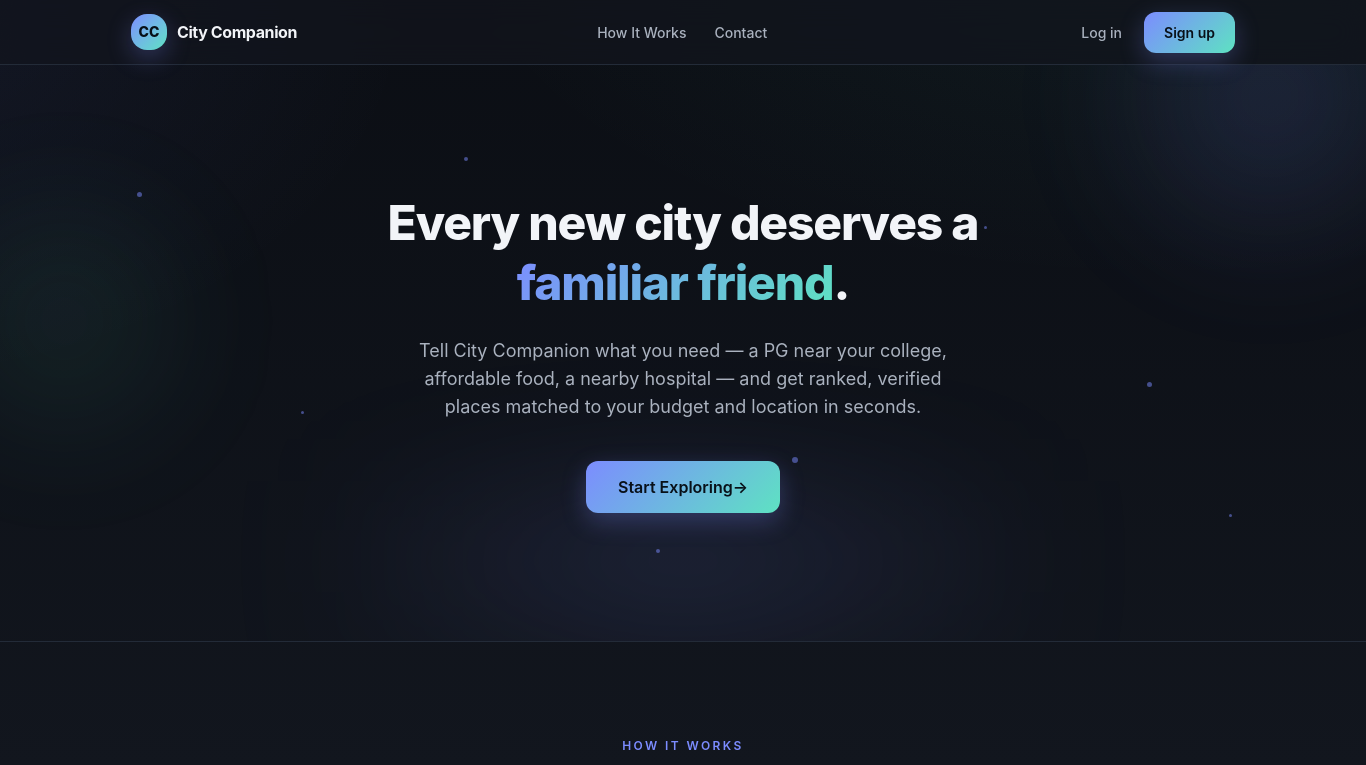
Phase 6B — navigation › routes Start Exploring through the auth guard to /login for guests
expect the heading "Every new city deserves a familiar friend." is shown: met, box [388, 193, 978, 312]
Click the link "Start Exploring →" at (683, 487), box [586, 461, 780, 513]
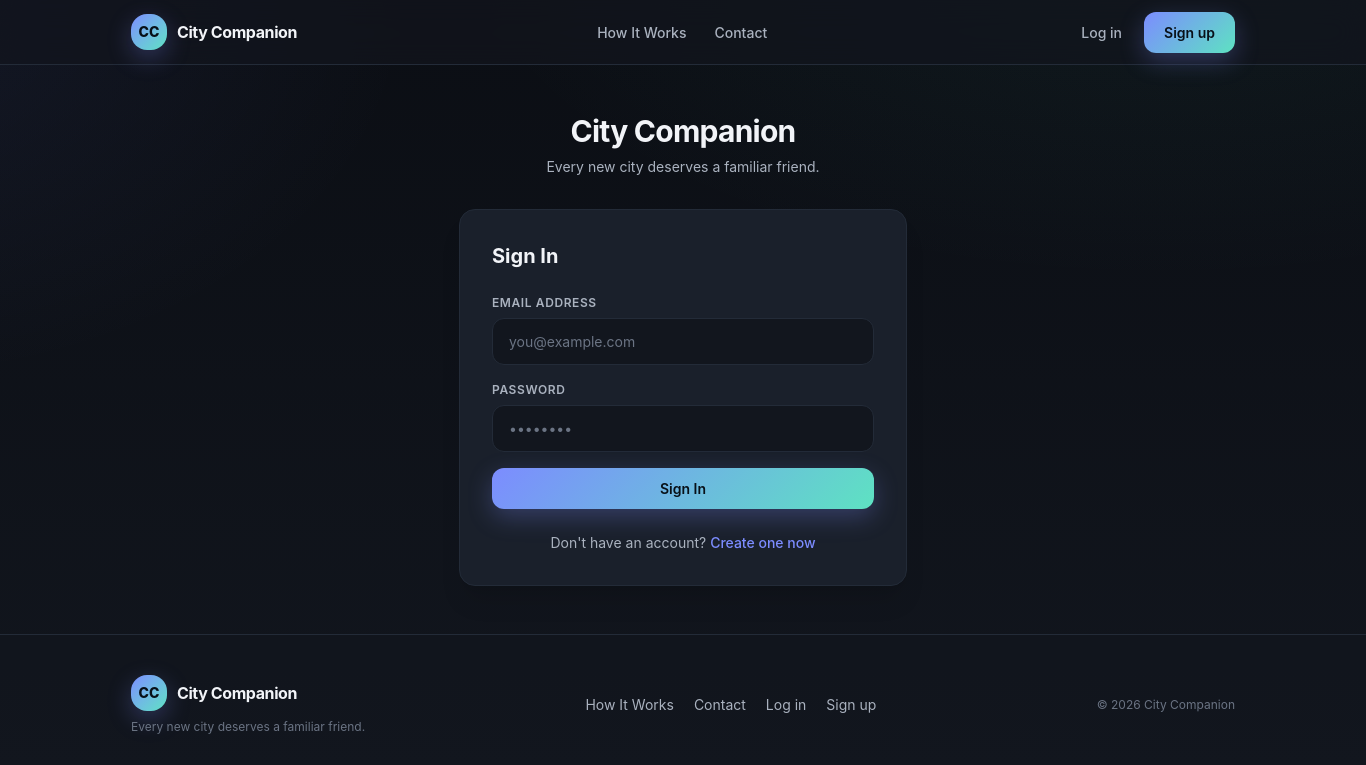
expect the heading "Sign In" is shown: met, box [492, 244, 558, 268]
